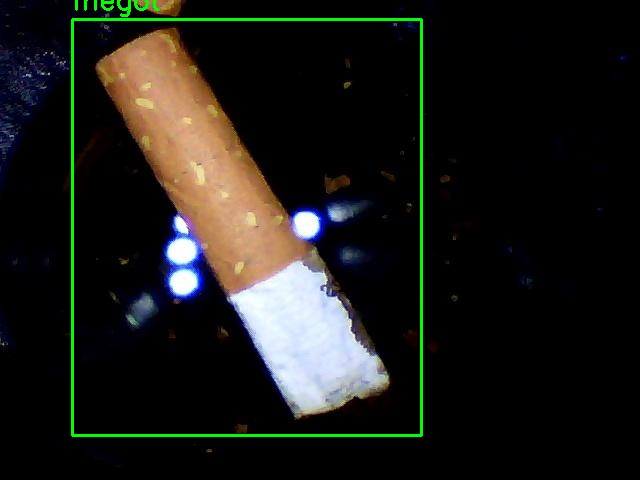megot: (72, 19, 421, 435)
